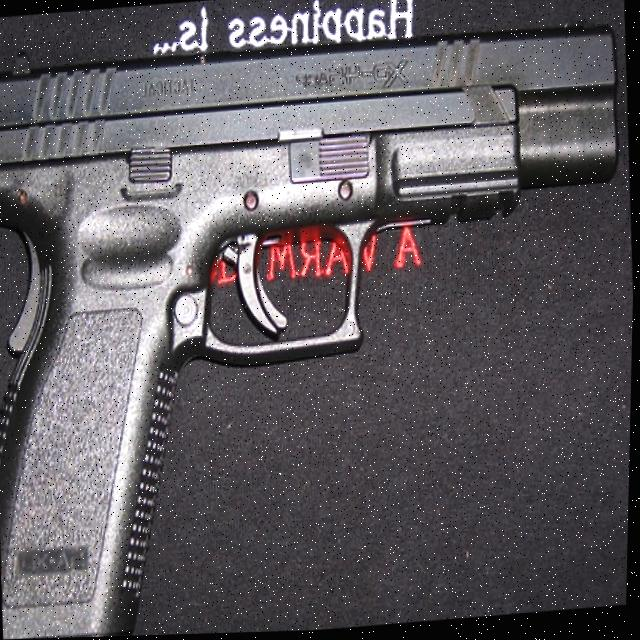pistol: (0, 21, 639, 640)
